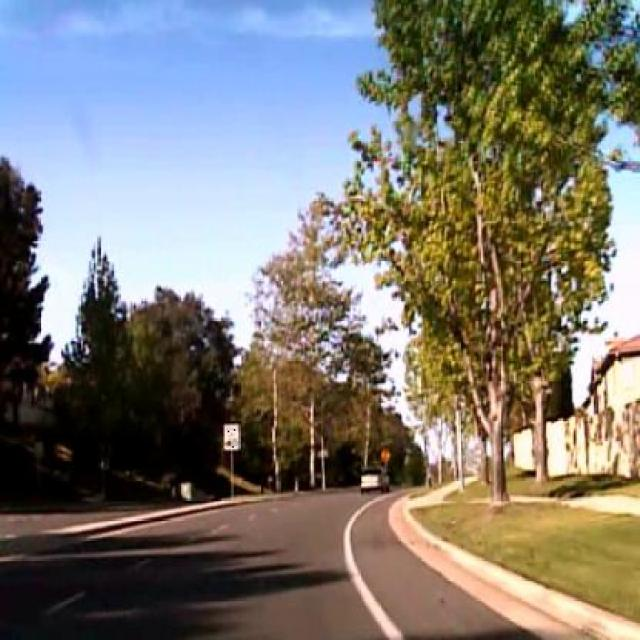speedLimit40: (223, 423, 239, 450)
